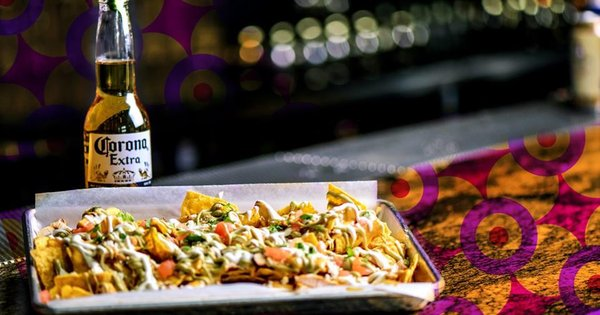burger: (82, 2, 152, 189)
sandwich: (18, 183, 435, 310)
